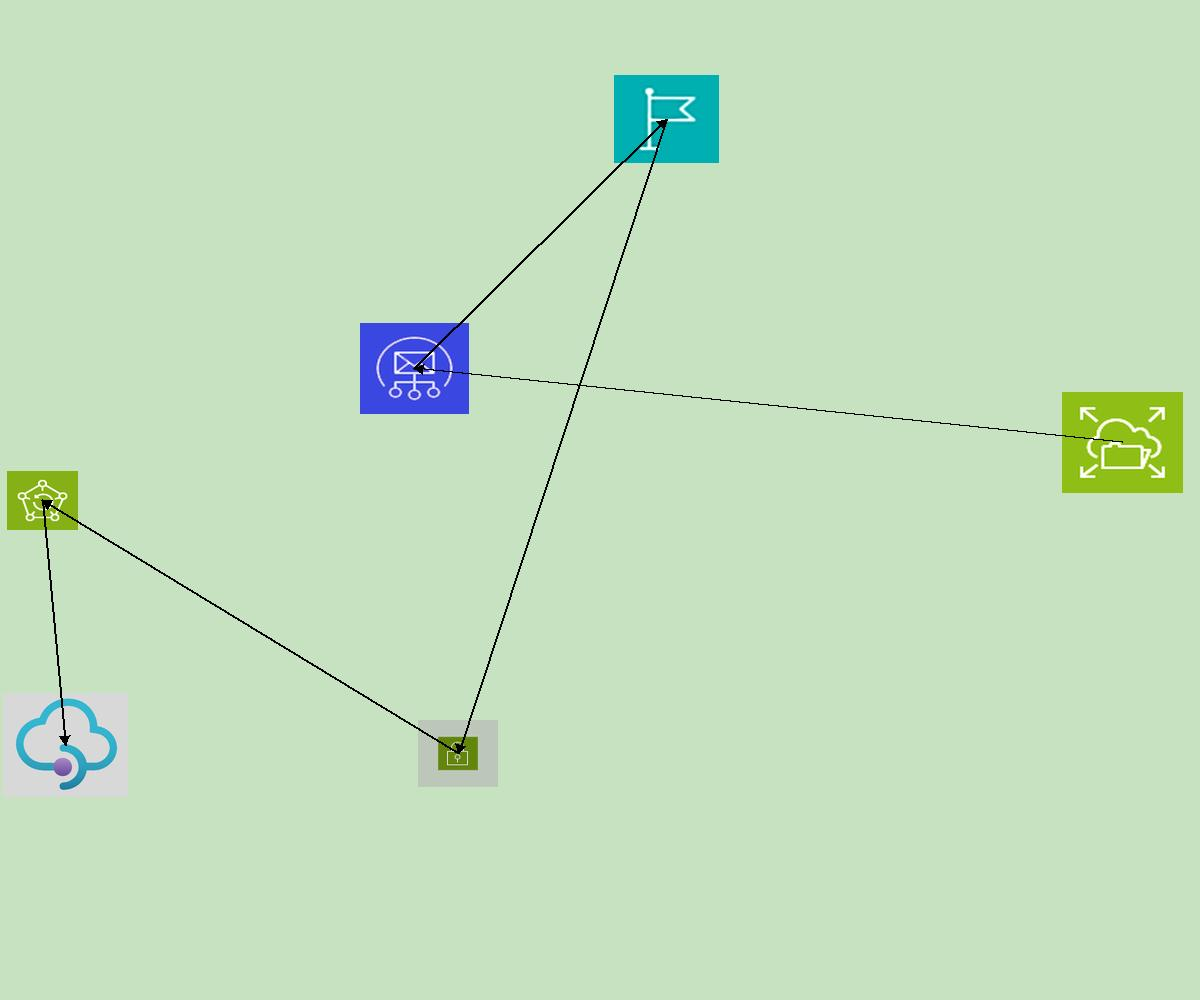AWS-Backup: (7, 471, 78, 530)
AWS-EFS: (1062, 392, 1183, 493)
AWS-Public-subnet: (418, 720, 498, 787)
AWS-Region: (614, 75, 719, 163)
AWS-Simple-Email-Service: (360, 323, 469, 414)
Azure_api_gateway: (3, 693, 128, 797)
